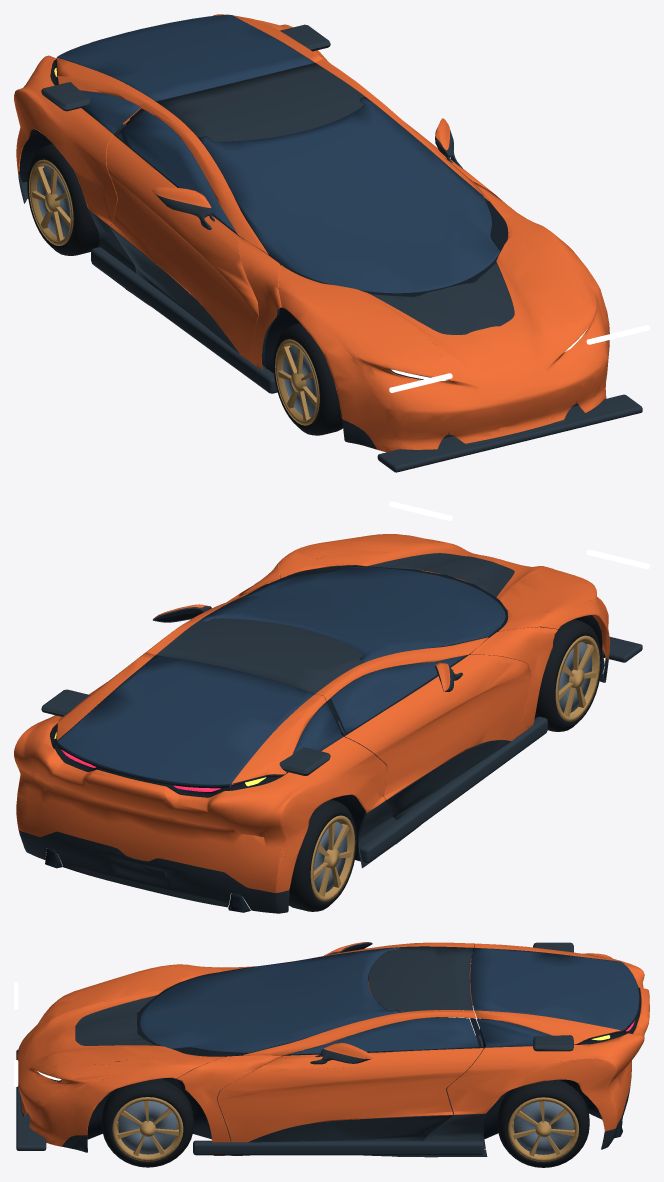
Rendered from velour-lod0.glb.
The picture shows the model from 3 angles, top to bottom: view 1: azimuth 30°, elevation 25°; view 2: azimuth 150°, elevation 25°; view 3: azimuth 270°, elevation 25°; orthographic projection. The views are drawn at different scales.
Visible parts, largest first — view 1: Body, WheelFrontR, WheelRearR; view 2: Body, WheelRearR, WheelFrontR; view 3: Body, WheelFrontL, WheelRearL.
Part boxes in pixels (x1=…): Body: x1=14, y1=14, x2=649, y2=472; WheelFrontR: x1=273, y1=323, x2=342, y2=435; WheelRearR: x1=27, y1=143, x2=99, y2=255; Body: x1=14, y1=501, x2=649, y2=913; WheelRearR: x1=288, y1=799, x2=356, y2=911; WheelFrontR: x1=534, y1=619, x2=601, y2=731; Body: x1=14, y1=942, x2=649, y2=1157; WheelFrontL: x1=102, y1=1078, x2=193, y2=1167; WheelRearL: x1=497, y1=1079, x2=589, y2=1167.
Size of the model in its own units: 2.27 by 1.28 by 5.31.
